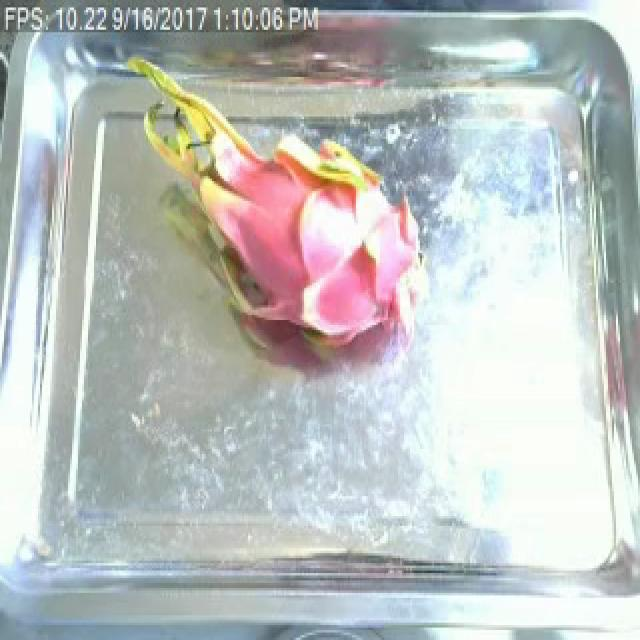fruit: (120, 64, 428, 394)
